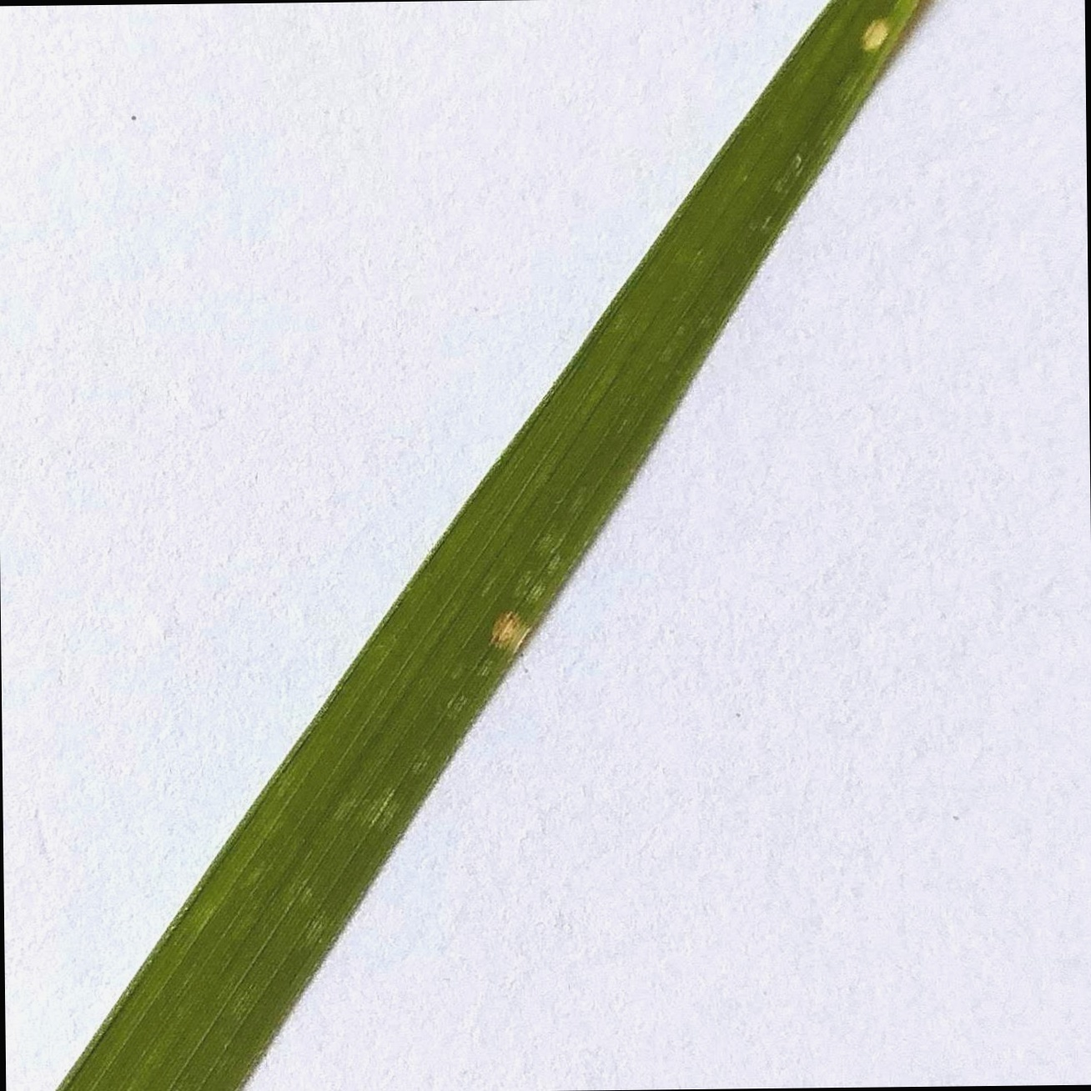Brown_Spot: (474, 577, 550, 664), (853, 7, 897, 56)
